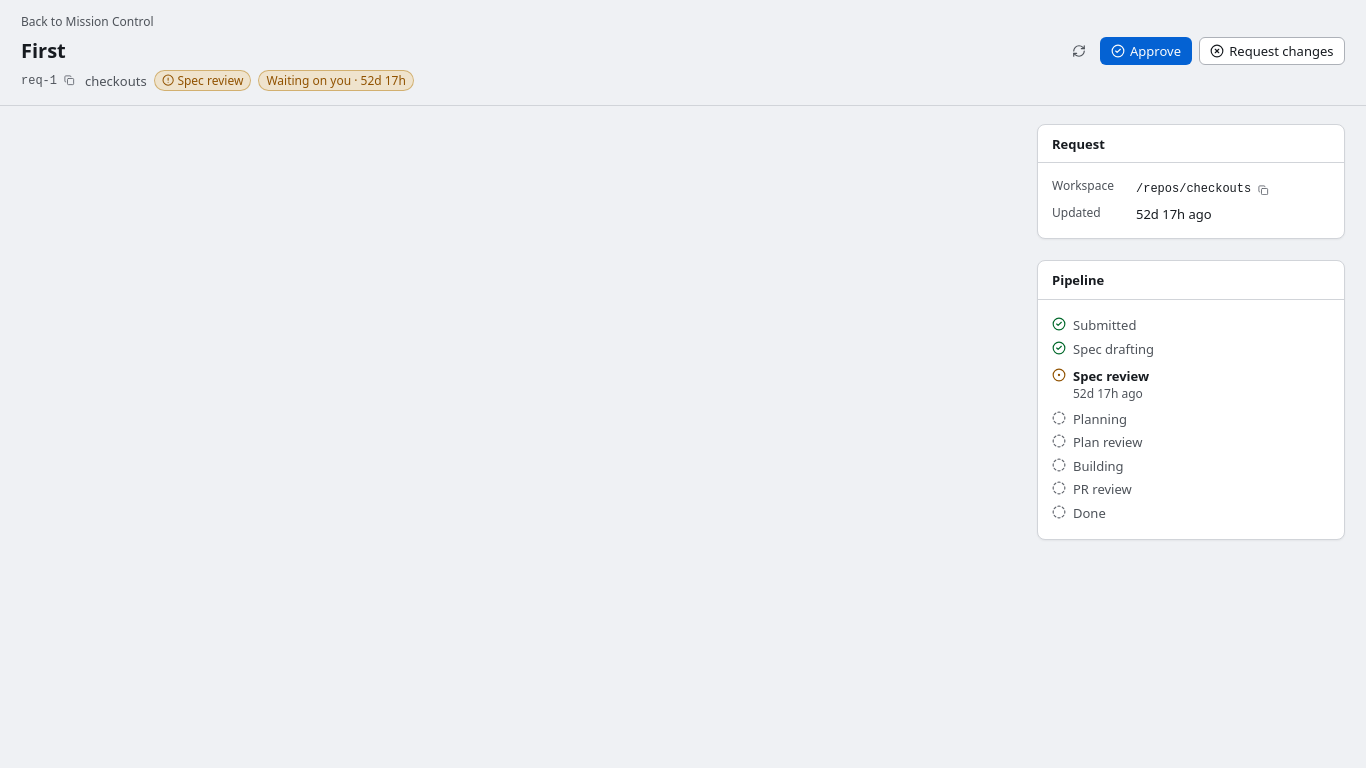
Test case: approve/reject are disabled again while a Refresh is in flight or has failed (detailLoaded must not stay true after the first load)
Expected: the button "Approve" is enabled, [1100,37,1192,65]
Expected: the button "Request changes" is enabled, [1198,37,1345,65]
Click the button named "Refresh".
click(1079, 51)  # box [1065,37,1093,65]
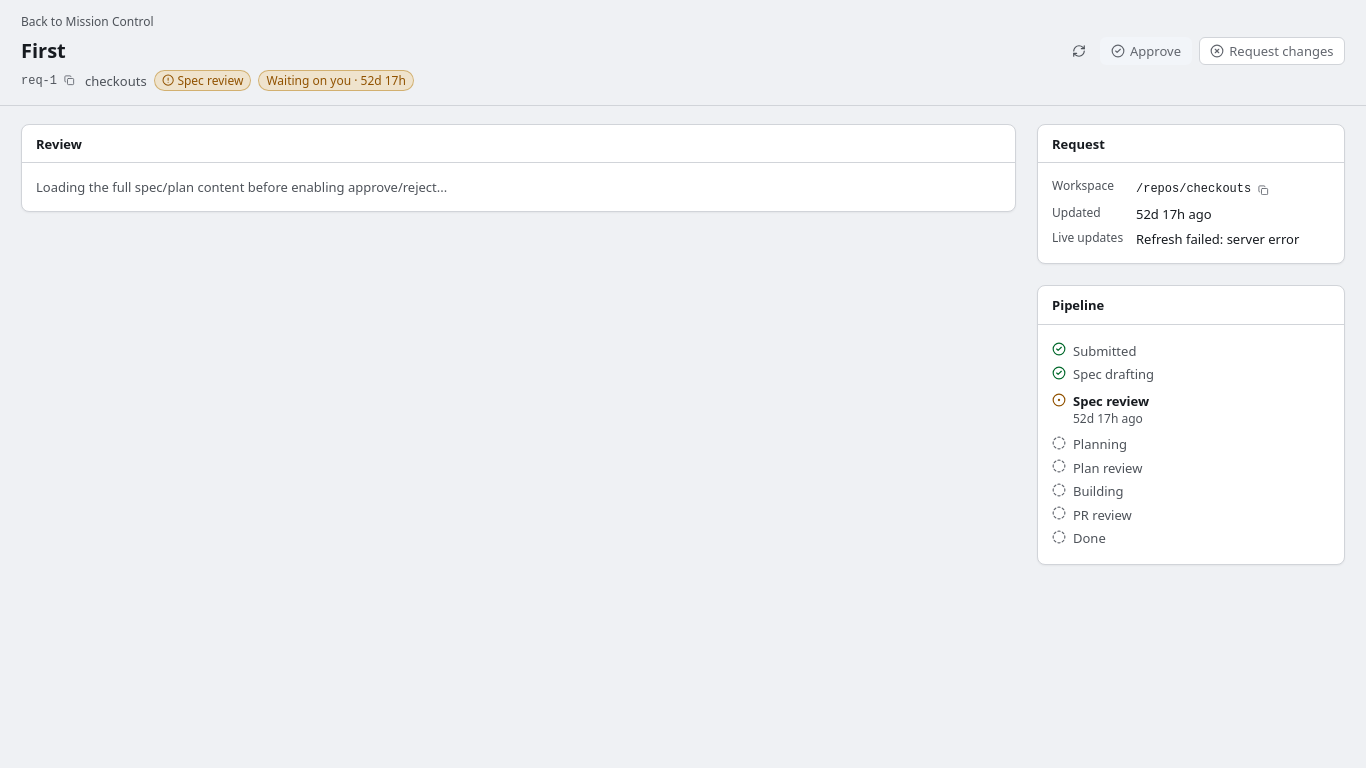
Result: the text "Refresh failed: server error" is shown at [1136,230,1299,248]
Result: the button "Approve" is disabled at [1100,37,1192,65]
Result: the button "Request changes" is disabled at [1198,37,1345,65]
